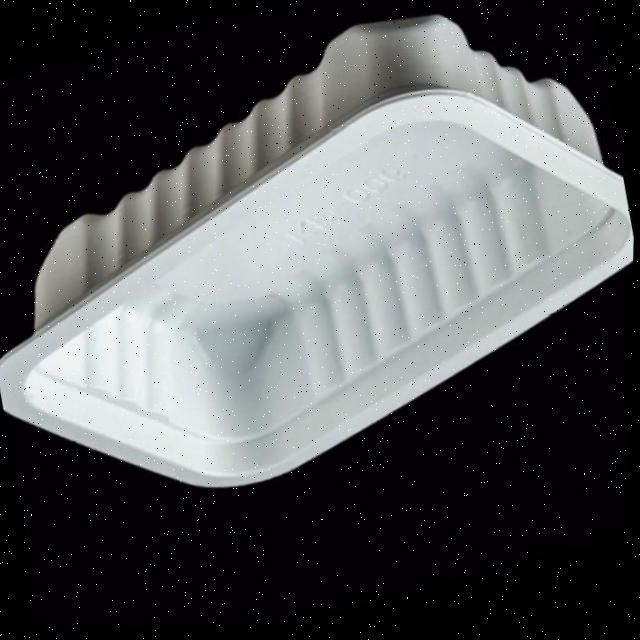disposable: (0, 0, 639, 511)
